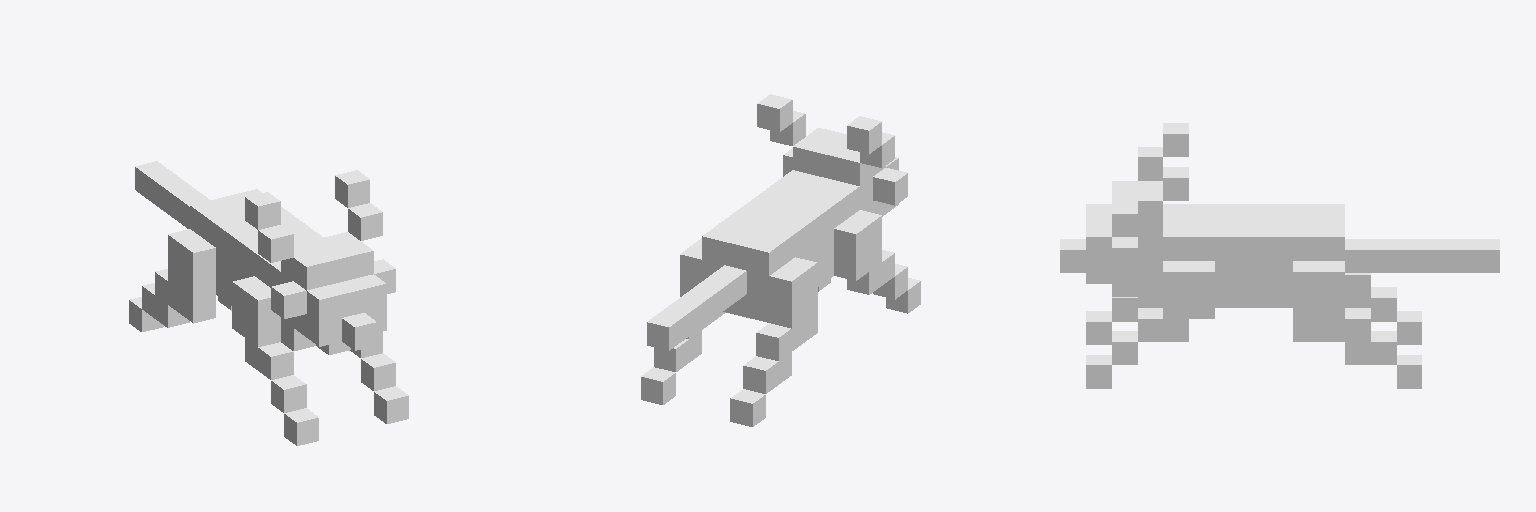
File: rat_run_1.obj
3 renders of one model, left to right at view 1: azimuth 30°, elevation 25°; view 2: azimuth 150°, elevation 25°; view 3: azimuth 270°, elevation 25°, orthographic.
Visible parts, largest first — view 1: object 1; view 2: object 1; view 3: object 1.
Part boxes in pixels (x1,y1,x2,y2): object 1: (129,161,408,445); object 1: (641,94,920,426); object 1: (1060,123,1499,388).
Size of the model in its own units: 0.5 by 0.9 by 1.7.